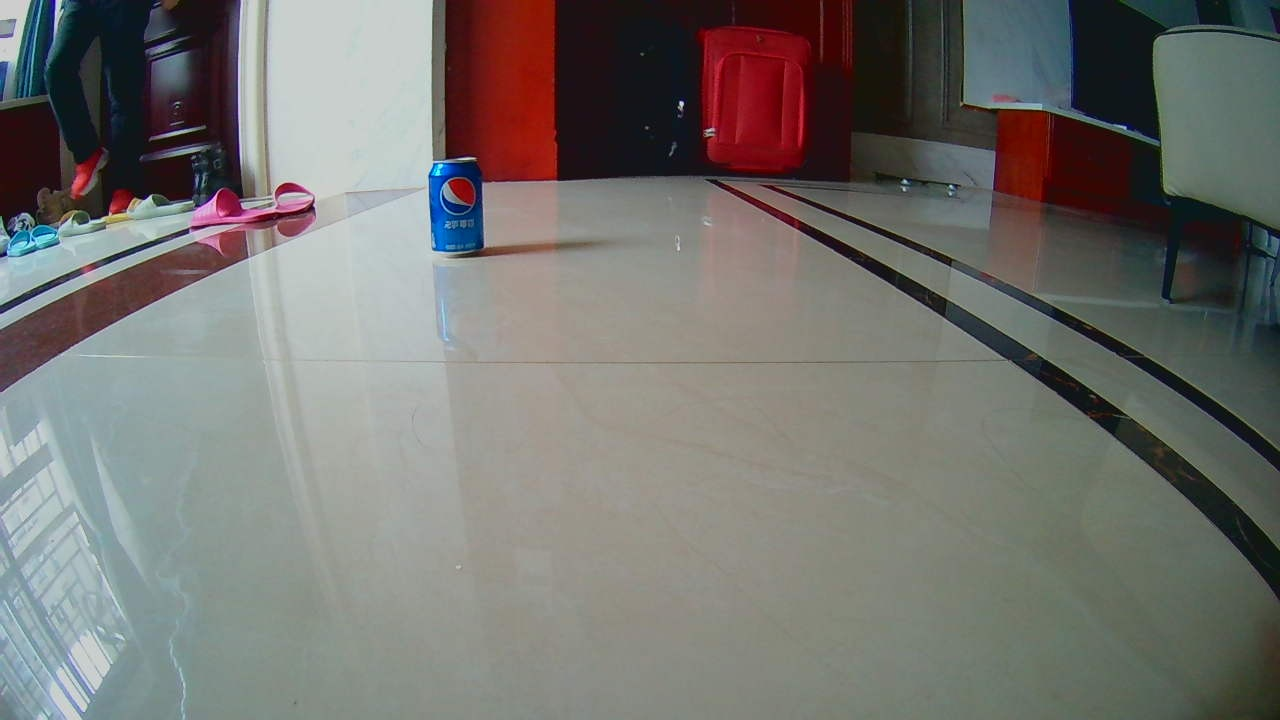pessi: (429, 161, 484, 252)
